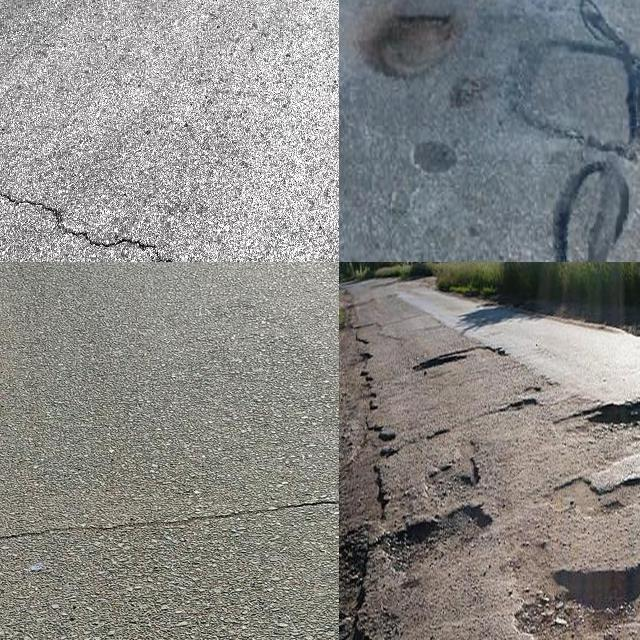Lubang: (506, 565, 640, 640), (377, 508, 494, 581), (373, 9, 468, 81), (586, 404, 640, 450)
Melintang: (0, 487, 339, 554), (0, 177, 242, 262)
Pinggir: (339, 328, 397, 640)
